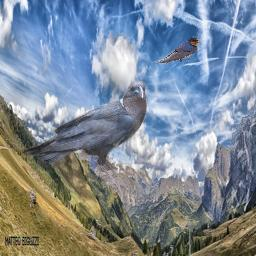Crow: (22, 81, 147, 193)
Swallow: (152, 36, 201, 64)
